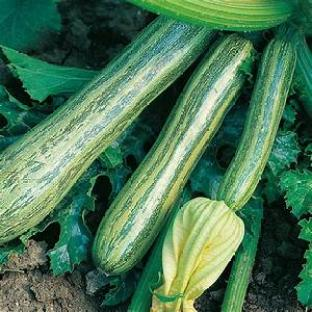Zucchini: (0, 17, 214, 244), (93, 35, 252, 274), (218, 35, 296, 210), (127, 187, 191, 311), (295, 34, 311, 118)
